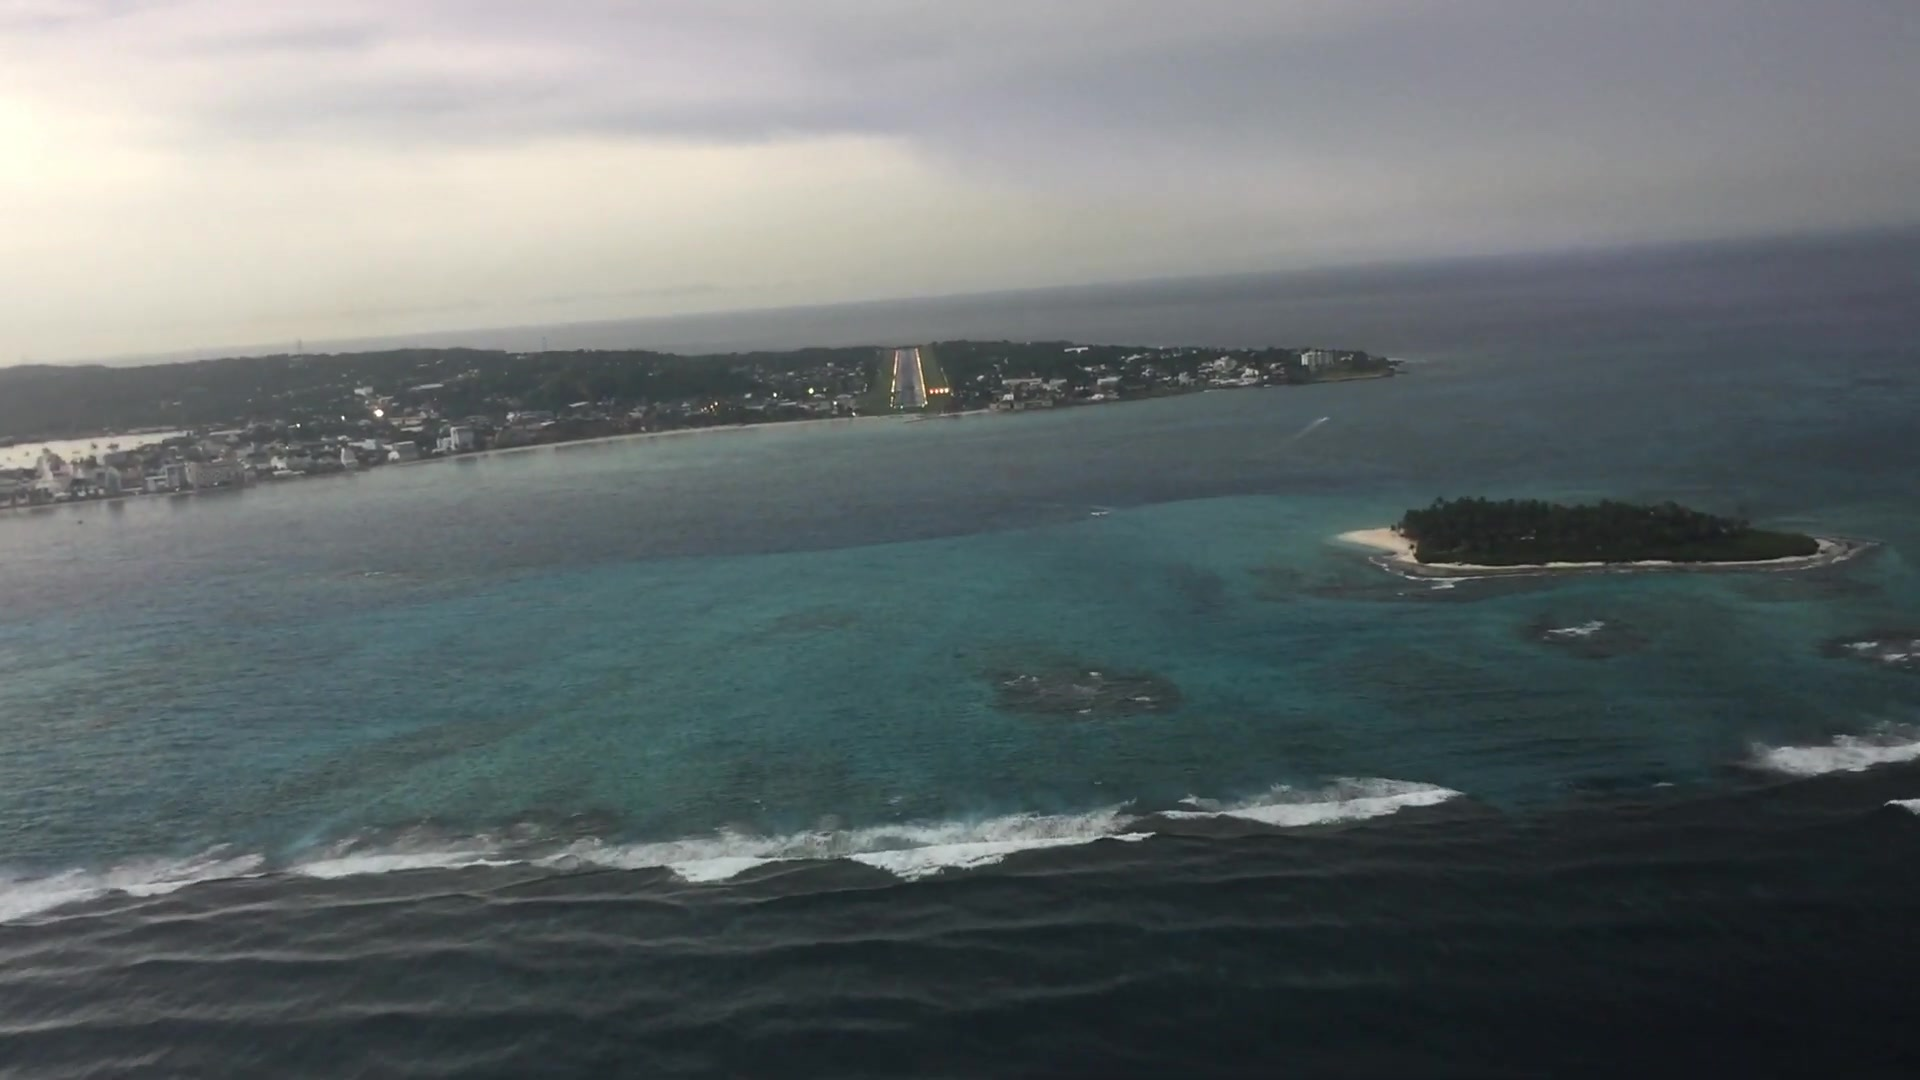runway: (887, 347, 928, 411)
